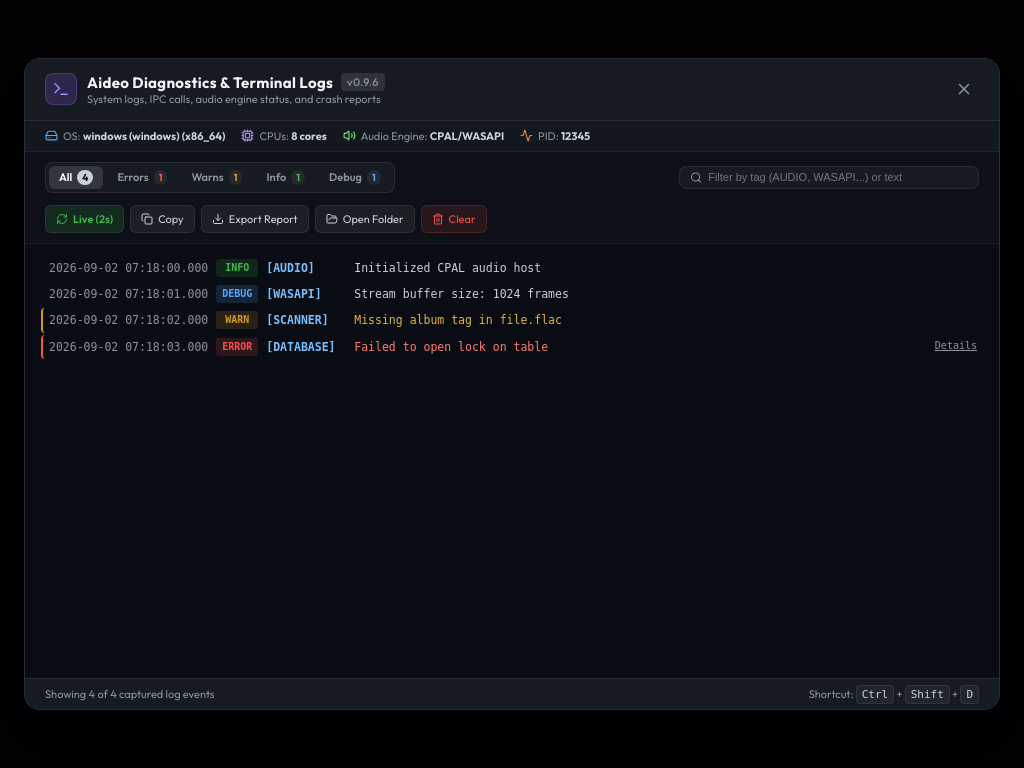
Test: DebugLogsModal Component › renders modal with system info, level filters, and log list
Expected: the text "Aideo Diagnostics & Terminal Logs" is shown, 87,73 -> 333,92
Expected: the text "Initialized CPAL audio host" is shown, 354,261 -> 541,275
Test Level Filter
Click the text "Errors" at (133, 177), box 117,170 -> 149,184
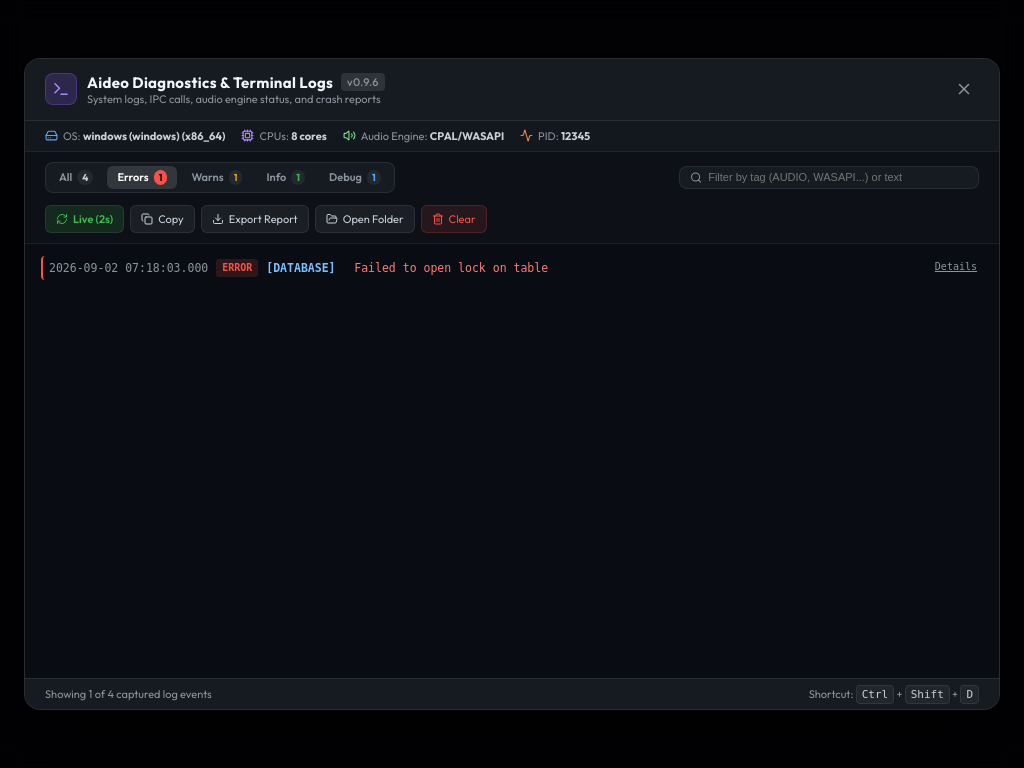
Expected: the text "Failed to open lock on table" is shown, 354,261 -> 548,275
Expected: the text "Initialized CPAL audio host" is gone
Reset to All
Click the text "All" at (66, 177), box 59,170 -> 72,184
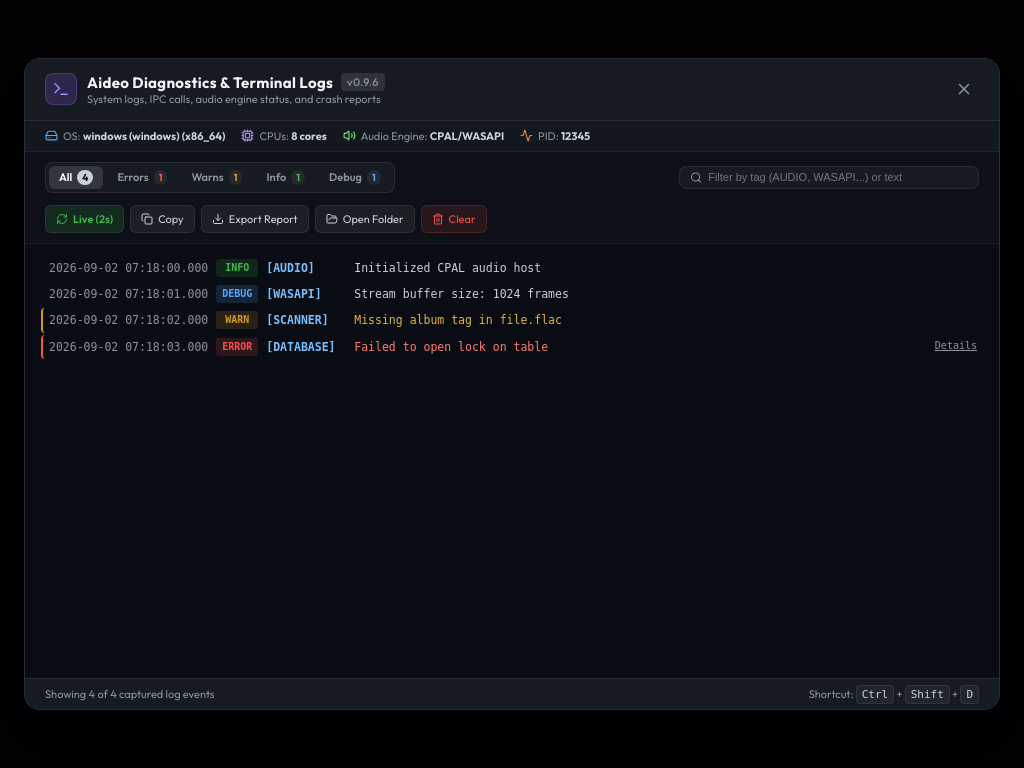
Expected: the text "Initialized CPAL audio host" is shown, 354,261 -> 541,275
Test Search input
Type "WASAPI" into the field with placeholder "Filter by tag (AUDIO, WASAPI...) or text" at (838, 177), box 708,171 -> 968,183
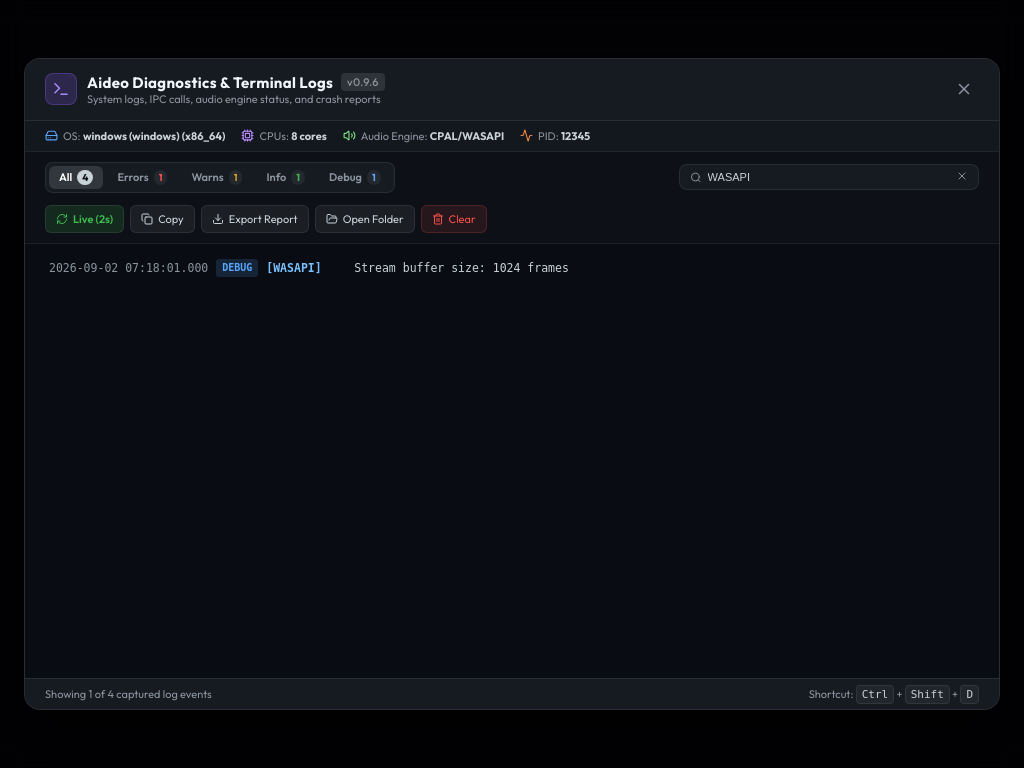
Expected: the text "Stream buffer size: 1024 frames" is shown, 354,261 -> 569,275
Expected: the text "Initialized CPAL audio host" is gone
